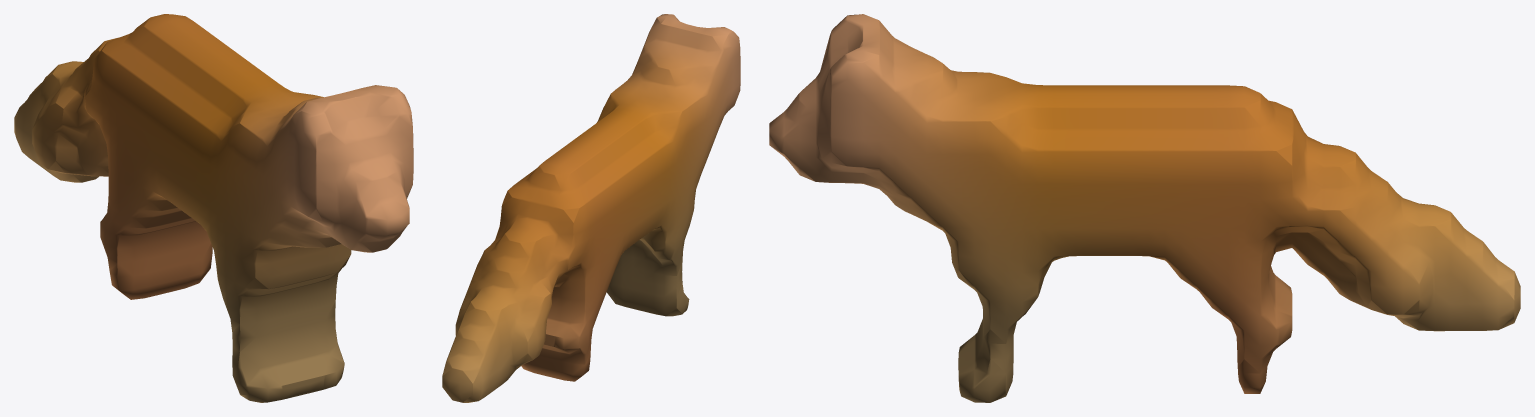
File: Fox_064B_voxs.glb
3 views of the same model, side by side, from view 1: azimuth 30°, elevation 25°; view 2: azimuth 150°, elevation 25°; view 3: azimuth 270°, elevation 25° (orthographic). The views are drawn at different scales.
Bounding box in the file's own units: 0.3438 × 1.02 × 1.97.
